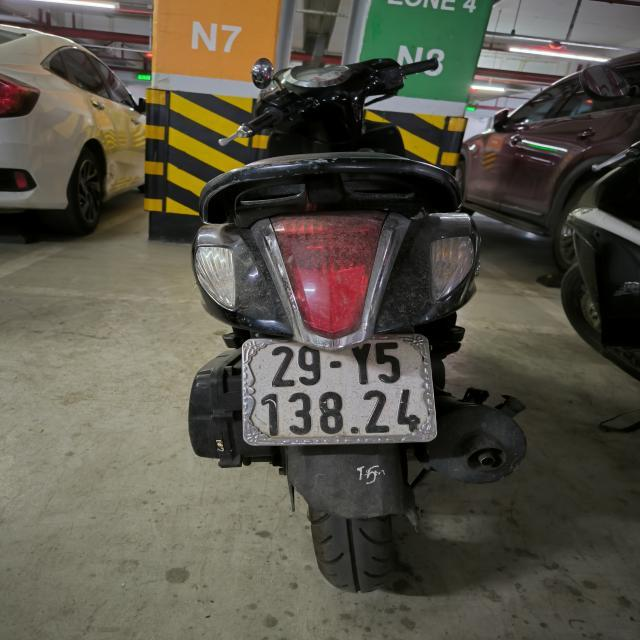license: (239, 332, 438, 447)
